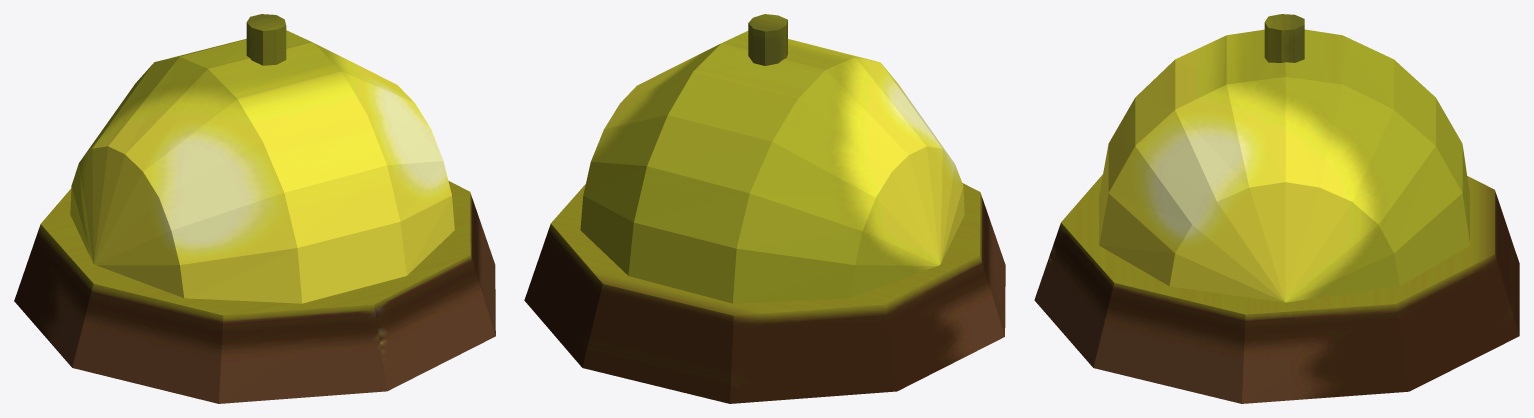
Rendered from bell.glb.
The picture shows the model from 3 angles, left to right: view 1: azimuth 30°, elevation 25°; view 2: azimuth 150°, elevation 25°; view 3: azimuth 270°, elevation 25°; orthographic projection.
Visible parts, largest first — view 1: bell; view 2: bell; view 3: bell.
Boxes of the visible parts, x1=… form: bell: x1=14, y1=14, x2=495, y2=403; bell: x1=524, y1=14, x2=1005, y2=403; bell: x1=1034, y1=14, x2=1519, y2=403.
Bounding box in the file's own units: 79.69 × 49.92 × 78.48.
1 material, 1 textured.
